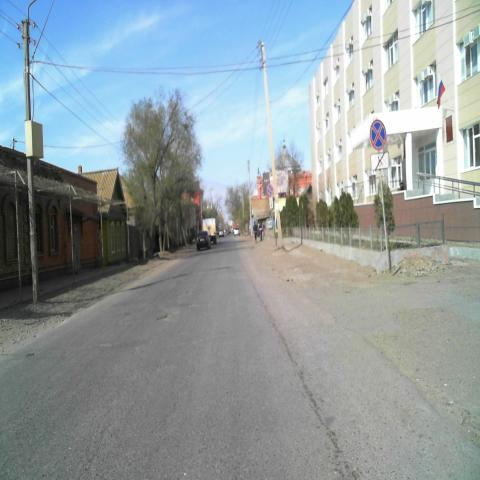8_18: (371, 152, 389, 170)
